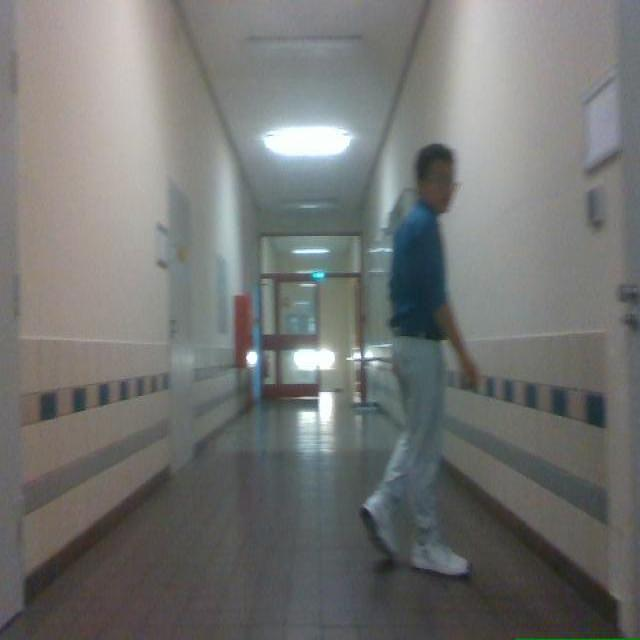humans: (360, 144, 478, 575)
